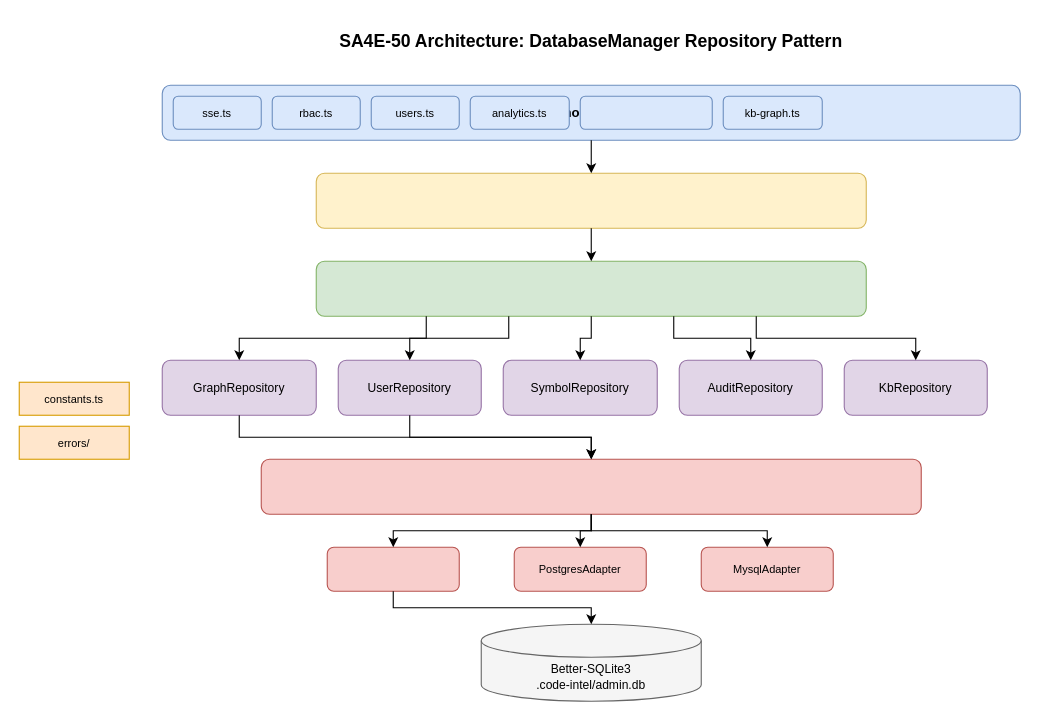
This 1040x721 diagram has some shape labels left out. Each missing label, with the box of its shape:
AdminContext (DI Container) ctx.db: DatabaseManager: (315, 172, 866, 228)
DatabaseAdapter Interface (SA4E-45): (260, 458, 921, 514)
DatabaseManager: (315, 260, 866, 316)
kb-graph-spatial.ts: (579, 95, 712, 129)
SqliteAdapter: (326, 546, 459, 591)
